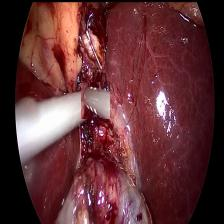Irrigator: (80, 81, 109, 118)
